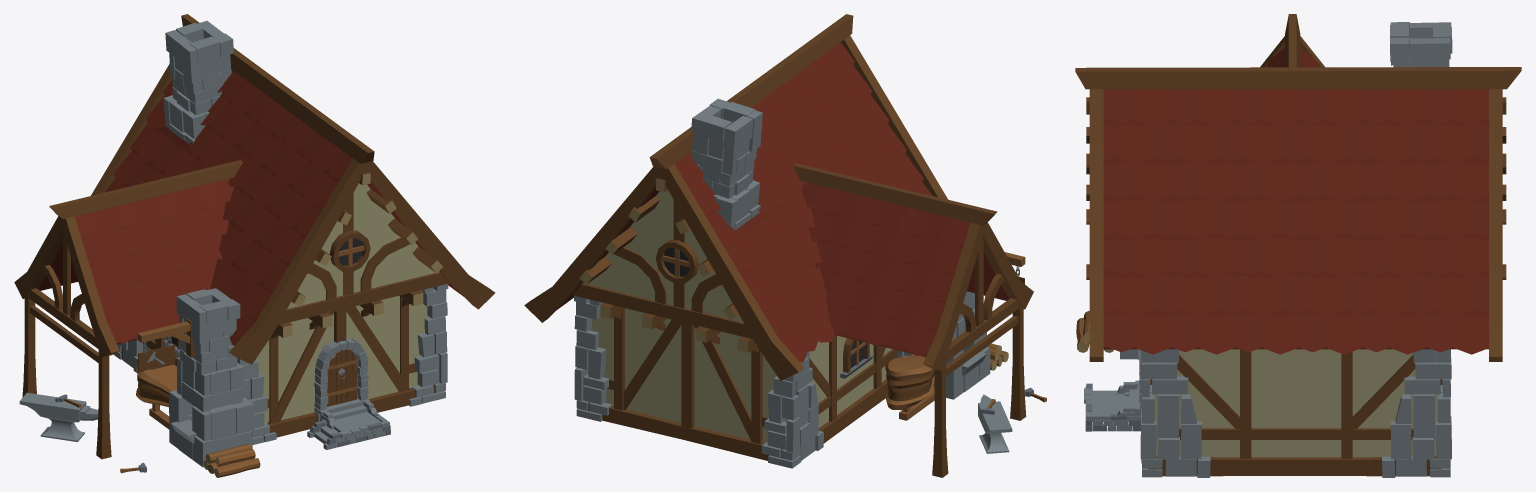
Rendered from Blacksmith.glb.
3 renders of one model, left to right at view 1: azimuth 30°, elevation 25°; view 2: azimuth 150°, elevation 25°; view 3: azimuth 270°, elevation 25°, orthographic. The views are drawn at different scales.
Parts seen in each view (by area): view 1: Blacksmith; view 2: Blacksmith; view 3: Blacksmith.
Boxes of the visible parts, box(x1,y1,x2,y2) form: Blacksmith: box(14, 14, 495, 477); Blacksmith: box(524, 14, 1046, 477); Blacksmith: box(1075, 14, 1521, 477).
Size of the model in its own units: 3.89 by 3 by 3.28.
